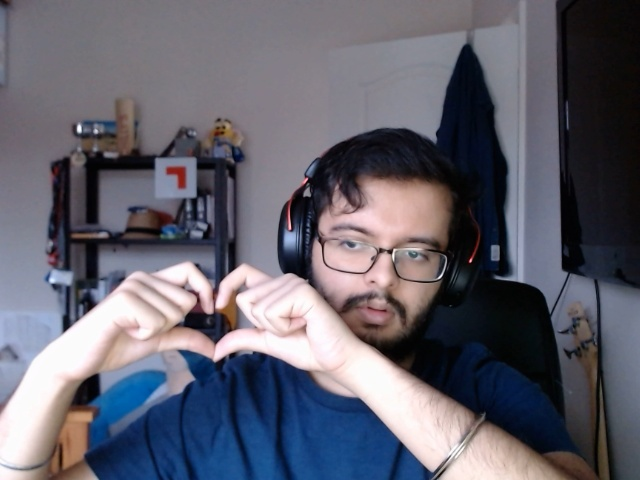Heart: (119, 255, 321, 371)
